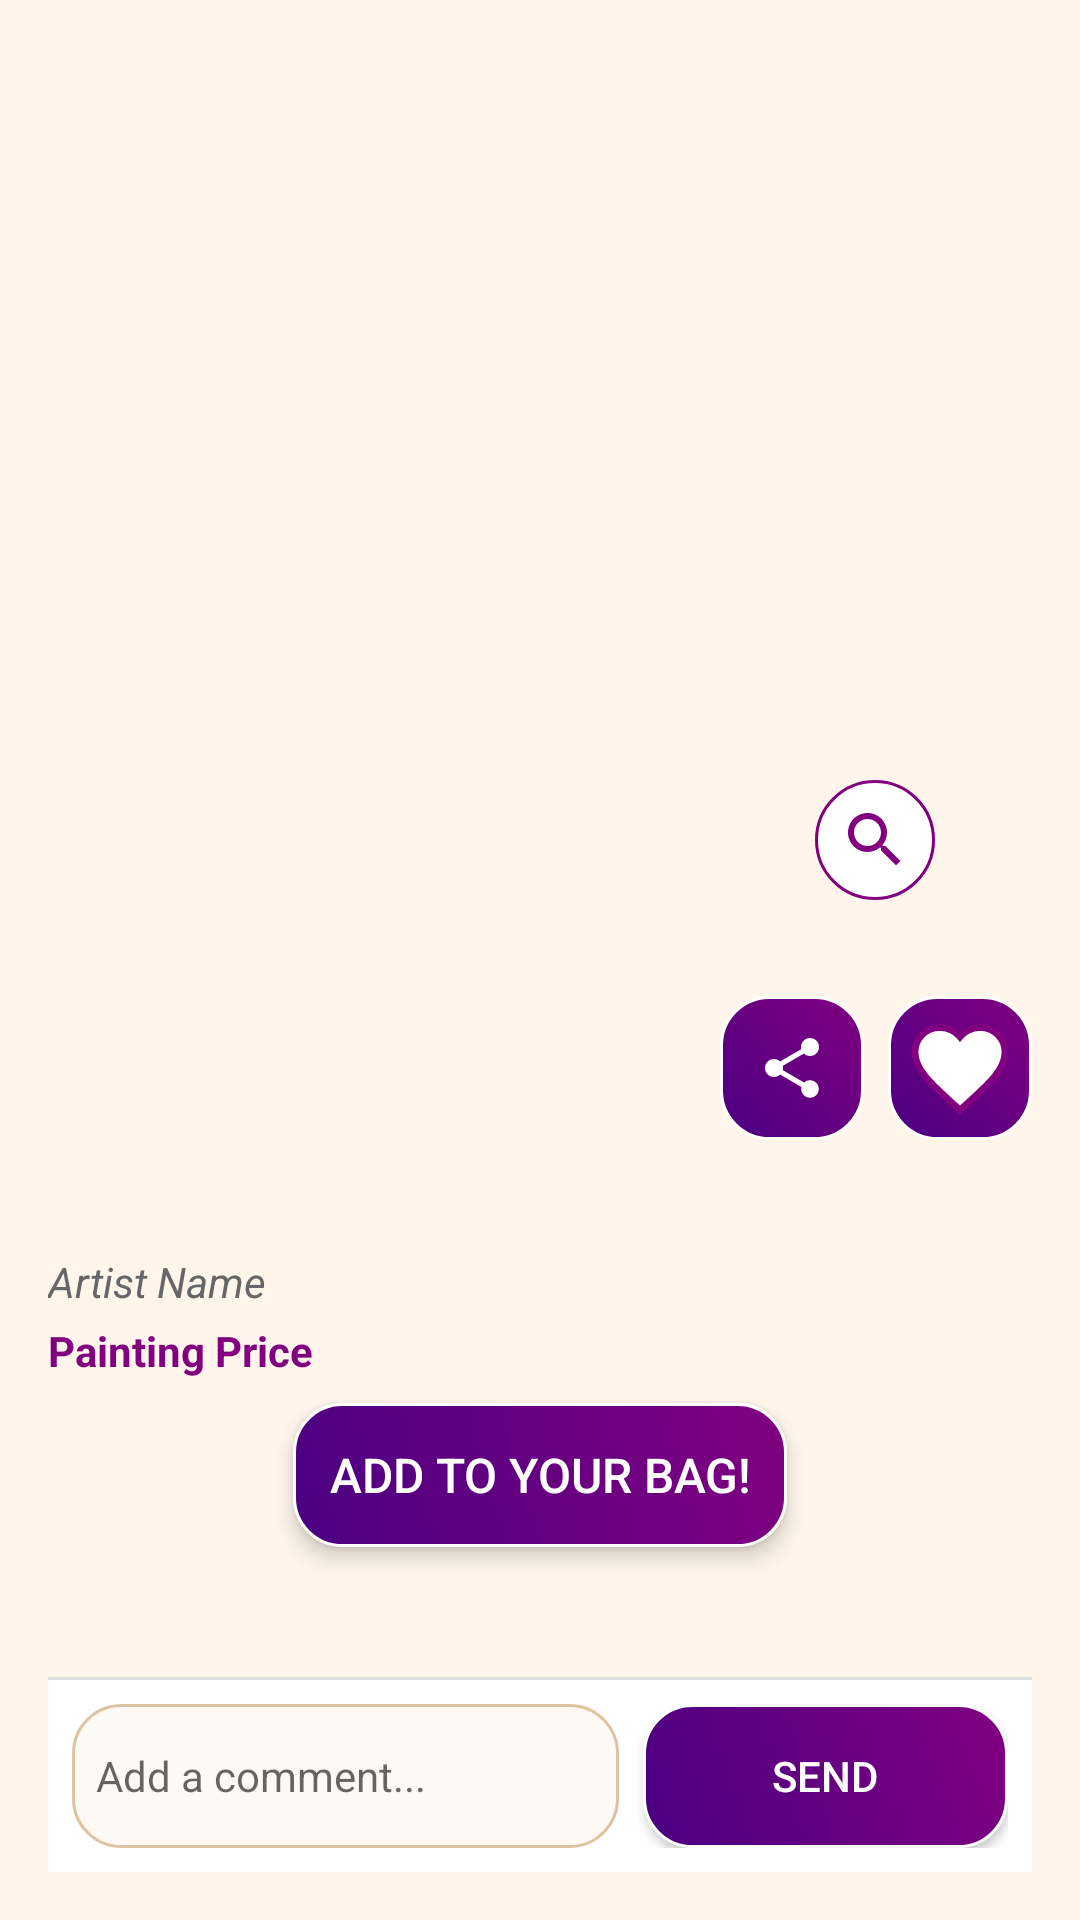

Screen size 1080*1920. Icon name, then its box in pixels as (x1, y1, x2, y2):
heart: (891, 999, 1029, 1137)
Share painting: (723, 999, 861, 1137)
Zoom: (815, 780, 935, 900)
